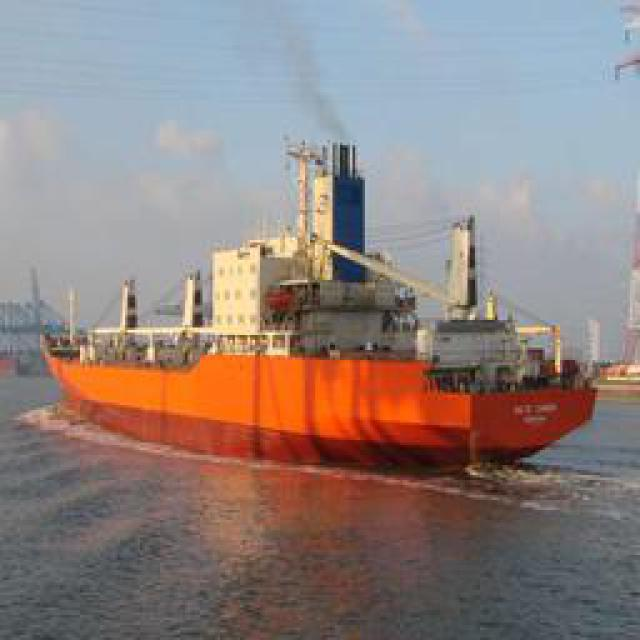Ship: (49, 166, 592, 471)
